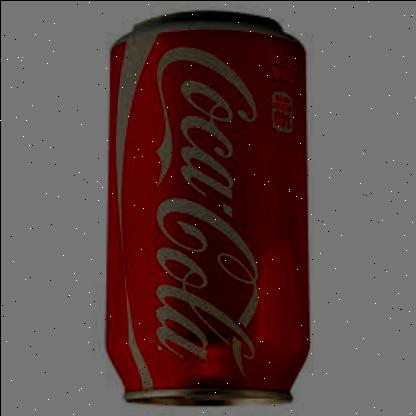Can: (105, 15, 311, 403)
